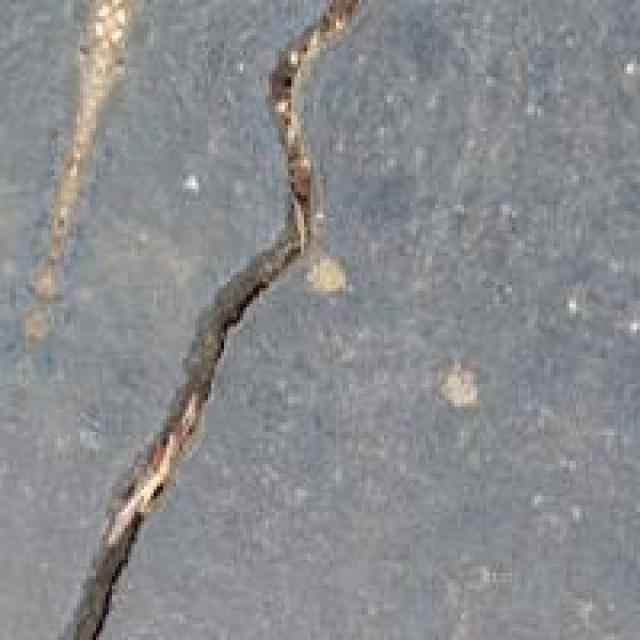Crack: (61, 0, 426, 637)
